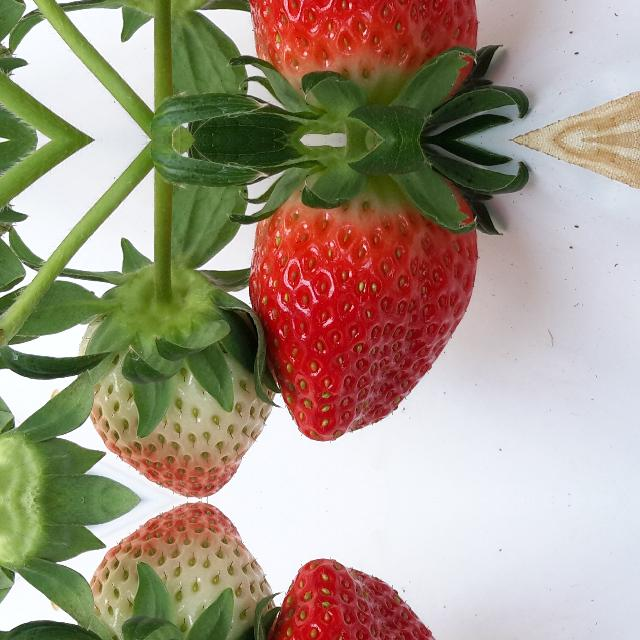Health_100: (249, 168, 479, 440), (249, 0, 479, 112), (249, 560, 479, 640)
Health_75: (82, 288, 274, 497), (81, 503, 274, 640)
